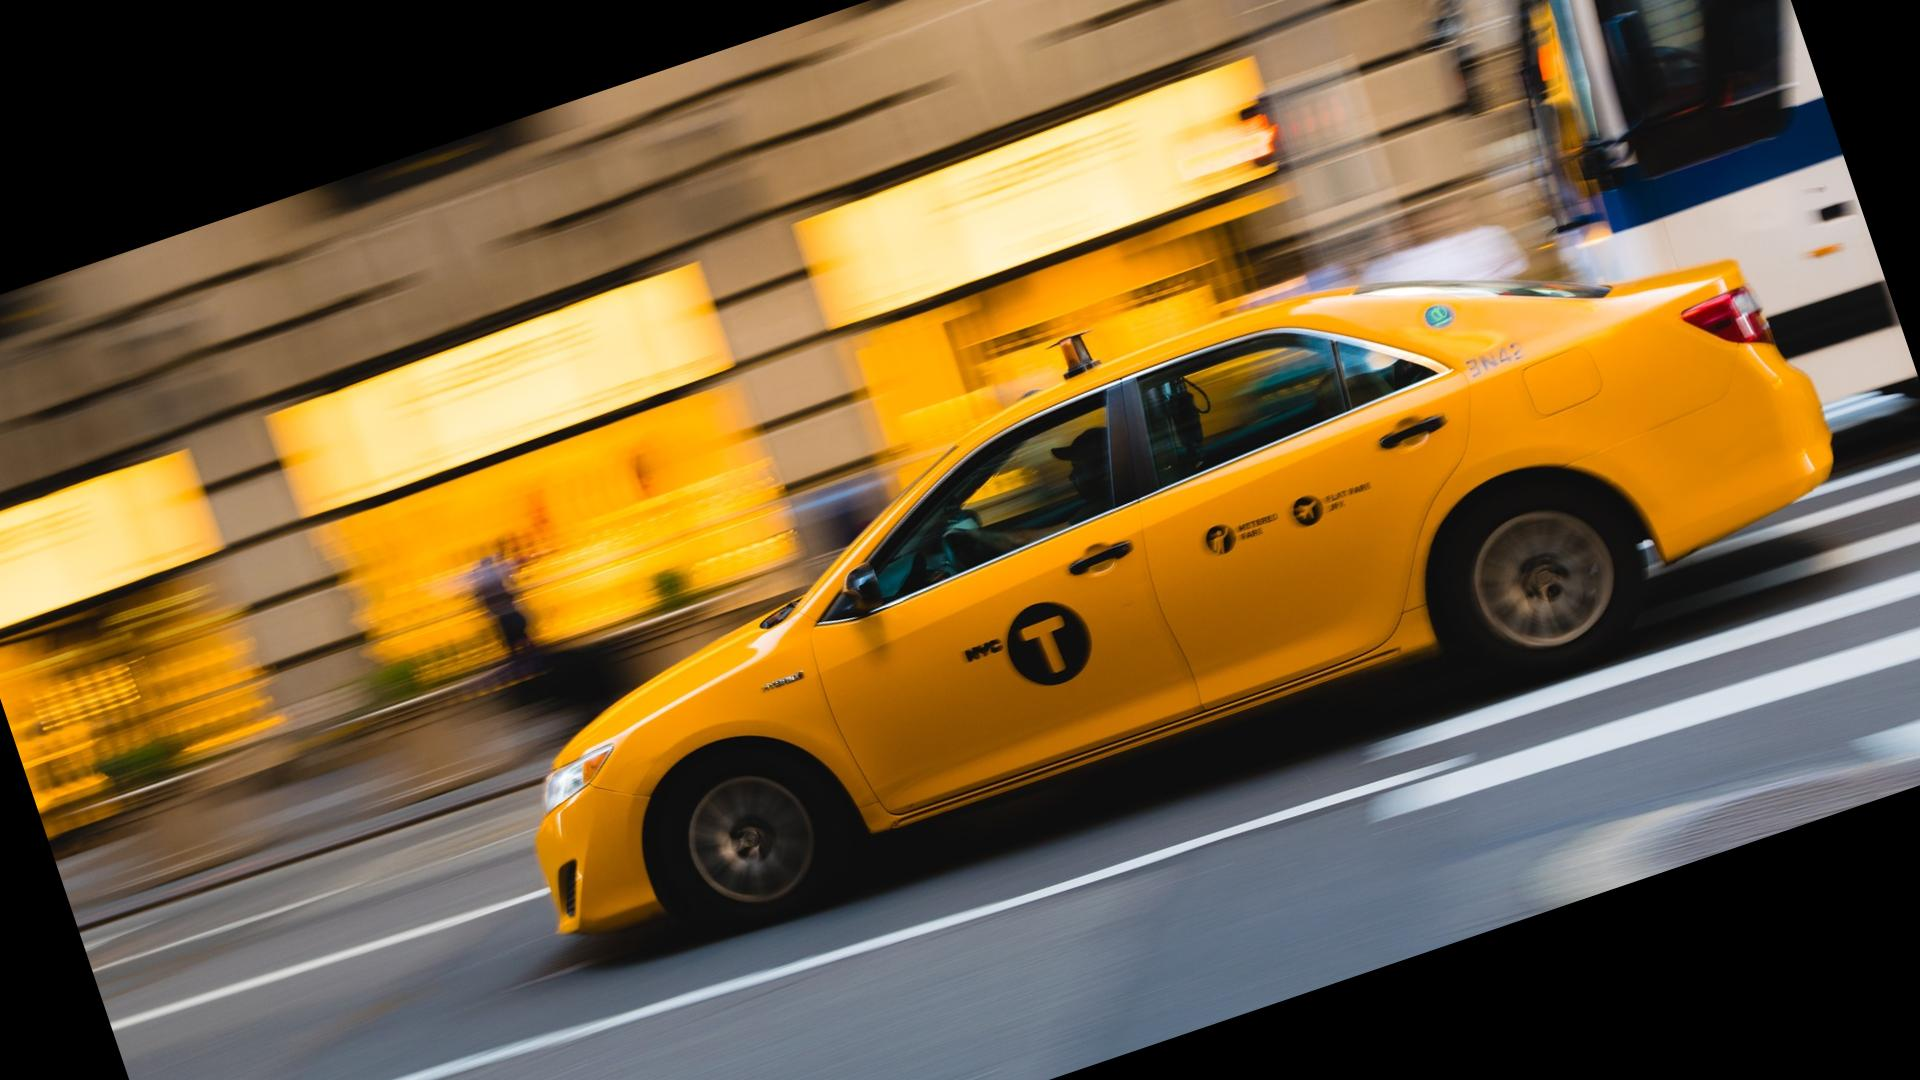taxi: (535, 223, 1826, 971)
